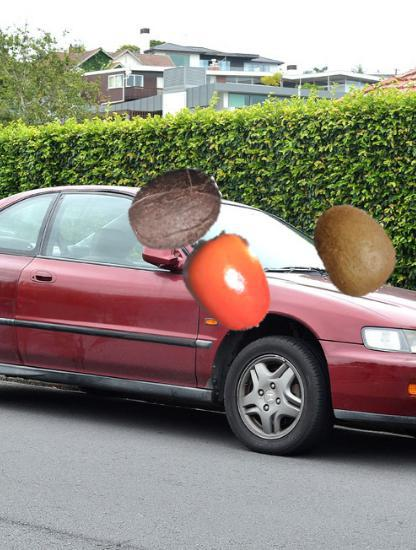Cocos: (124, 157, 223, 256)
Kaki: (177, 230, 283, 336)
Kiwi: (306, 202, 402, 298)
